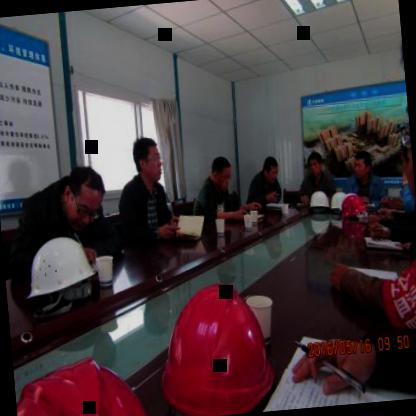head: (64, 160, 108, 226), (129, 133, 165, 188), (207, 154, 234, 193), (258, 150, 282, 190), (350, 148, 374, 180), (304, 149, 326, 180)
